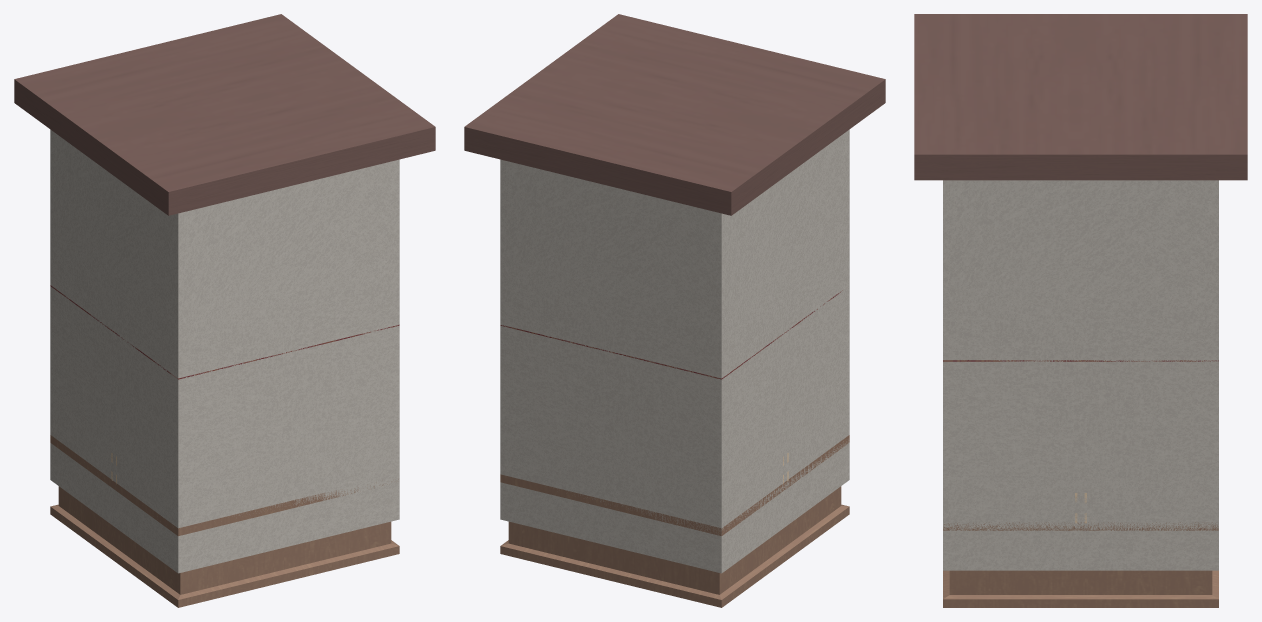
Rendered from all_map_2_0609.fbx.
3 views of the same model, side by side, from view 1: azimuth 30°, elevation 25°; view 2: azimuth 150°, elevation 25°; view 3: azimuth 270°, elevation 25° (orthographic). The views are drawn at different scales.
Parts seen in each view (by area): view 1: village_wall, park_wall; view 2: village_wall, park_wall, tent_cloth; view 3: village_wall, park_wall, tent_cloth.
Part boxes in pixels (x1=…): village_wall: x1=14, y1=14, x2=435, y2=573; park_wall: x1=50, y1=435, x2=399, y2=607; village_wall: x1=464, y1=14, x2=885, y2=573; park_wall: x1=500, y1=435, x2=849, y2=607; tent_cloth: x1=500, y1=290, x2=842, y2=379; village_wall: x1=914, y1=14, x2=1247, y2=570; park_wall: x1=943, y1=522, x2=1218, y2=607; tent_cloth: x1=943, y1=360, x2=1218, y2=361.
Size of the model in its own units: 2.41 by 3.72 by 2.41.
4 materials, 4 textured.
